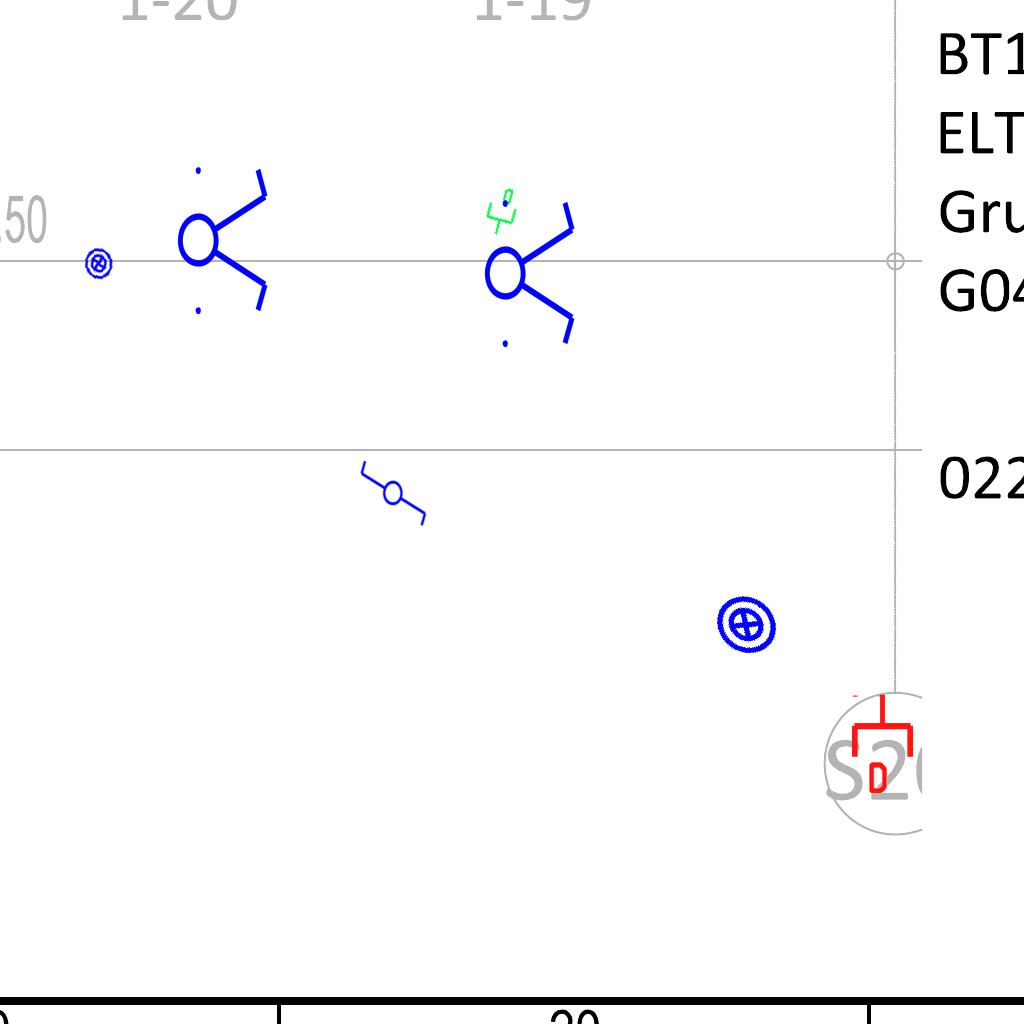Datenanschluss_einfach: (848, 693, 917, 793), (478, 182, 524, 240)
Serienschalter: (176, 155, 272, 323), (483, 188, 579, 356)
Taster_beleuchtet: (699, 578, 793, 672), (79, 244, 118, 283)
Wechselschalter: (358, 450, 430, 528)
